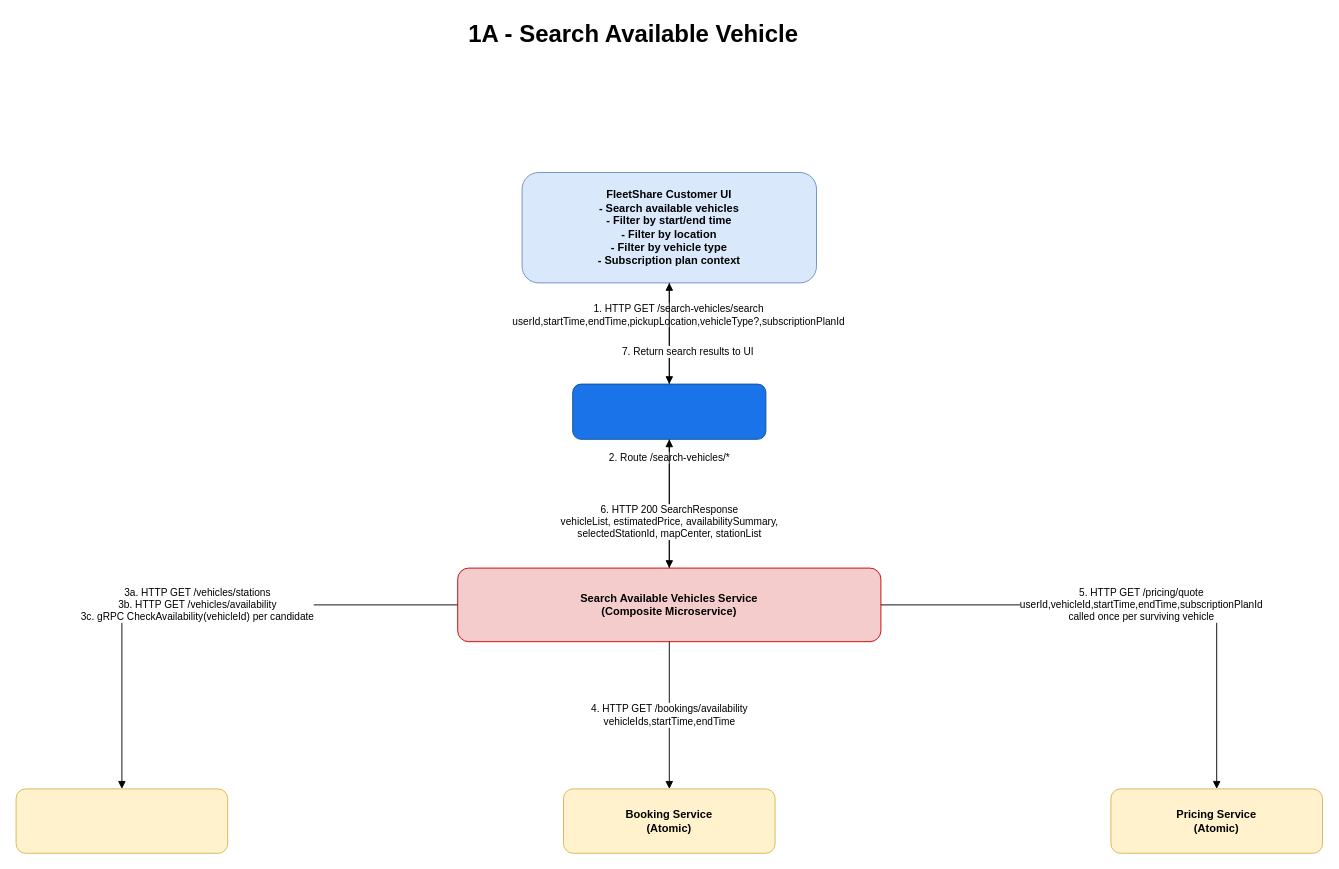
Image size: 1339x869. Some labels were removed from this diagram. The shapes that lost their labels are listed below. From the top down, each one's box as (x1, y1, x2, y2) in pixels, then its label:
(572, 383, 766, 439): Kong API Gateway
(15, 788, 228, 853): Vehicle Service (Atomic)
